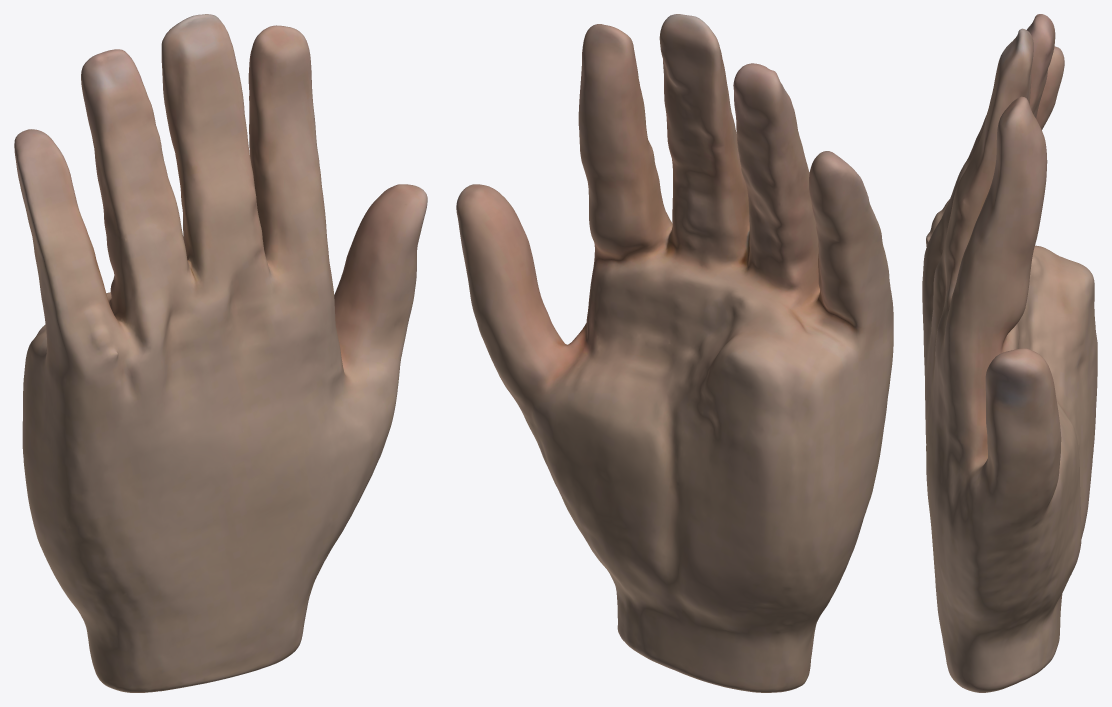
The model's file is 0c42ba5ed44e_hand_with_gesture__.fbx.
3 renders of one model, left to right at view 1: azimuth 30°, elevation 25°; view 2: azimuth 150°, elevation 25°; view 3: azimuth 270°, elevation 25°, orthographic. The views are drawn at different scales.
Visible parts, largest first — view 1: high_poly; view 2: high_poly; view 3: high_poly.
Part boxes in pixels (left/top/right/bottom): high_poly: left=14, top=14, right=427, bottom=692; high_poly: left=456, top=14, right=893, bottom=692; high_poly: left=922, top=14, right=1097, bottom=692.
Bounding box in the file's own units: 64.99 × 100 × 25.2.
